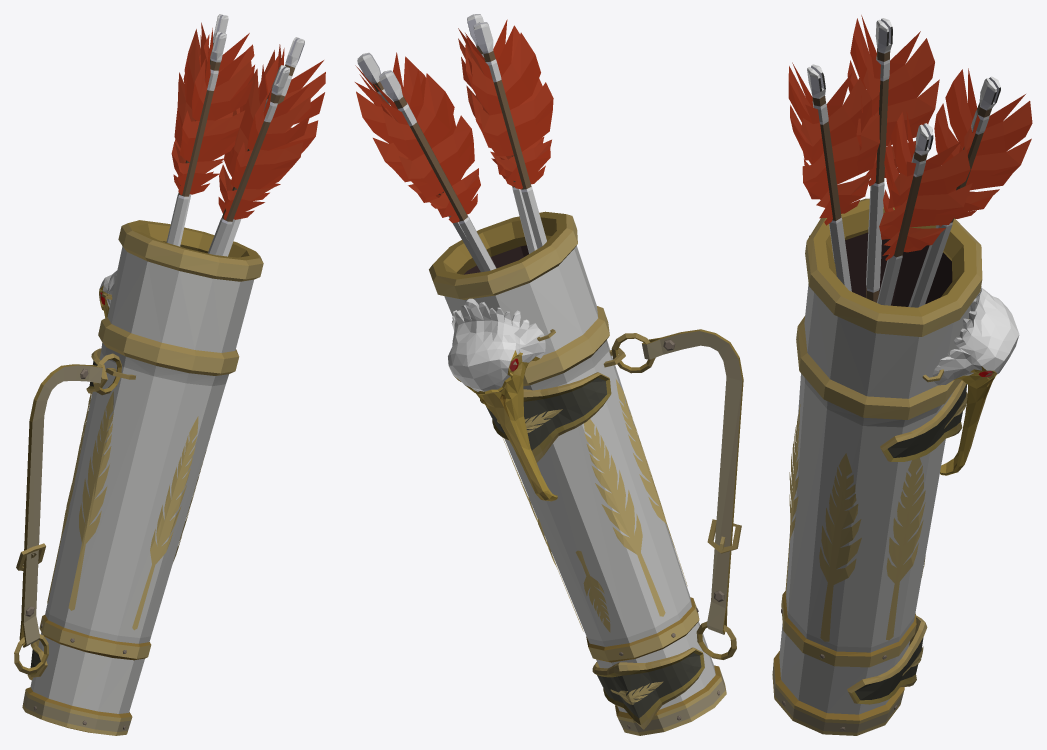
Rendered from pelicanWarriorQuiverFemale.glb.
3 views of the same model, side by side, from view 1: azimuth 30°, elevation 25°; view 2: azimuth 150°, elevation 25°; view 3: azimuth 270°, elevation 25° (orthographic). The views are drawn at different scales.
Visible parts, largest first — view 1: pelicanWarriorQuiver; view 2: pelicanWarriorQuiver; view 3: pelicanWarriorQuiver.
Boxes of the visible parts, x1,y1,x2,y2 form: pelicanWarriorQuiver: [14, 14, 325, 735]; pelicanWarriorQuiver: [355, 14, 743, 735]; pelicanWarriorQuiver: [772, 15, 1032, 735].
Size of the model in its own units: 0.4535 by 0.8324 by 0.2487.
